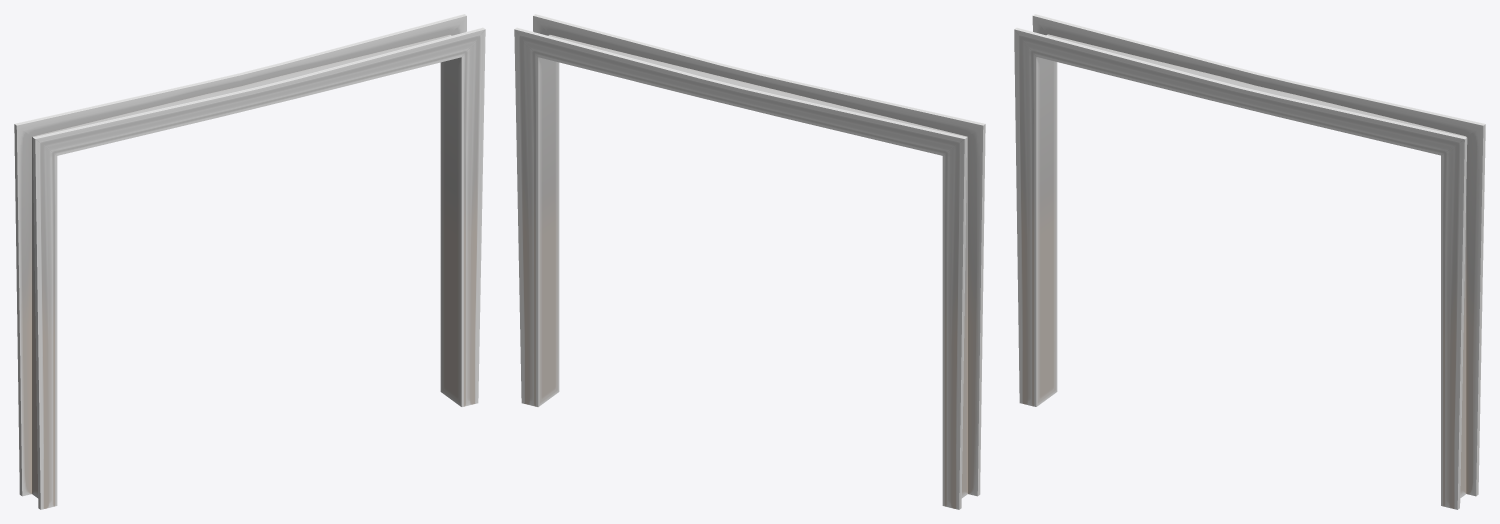
The model's file is PropDoorFrame01TypeB.FBX.
3 renders of one model, left to right at view 1: azimuth 30°, elevation 25°; view 2: azimuth 150°, elevation 25°; view 3: azimuth 330°, elevation 25°, orthographic.
Parts seen in each view (by area): view 1: PropDoorFrame01TypeB; view 2: PropDoorFrame01TypeB; view 3: PropDoorFrame01TypeB.
Part boxes in pixels (box(x1,y1,x2,y2)): PropDoorFrame01TypeB: box(14, 14, 485, 509); PropDoorFrame01TypeB: box(514, 14, 985, 509); PropDoorFrame01TypeB: box(1014, 14, 1485, 509).
Size of what is drawn, in the model's own units: 3.23 by 2.55 by 0.26.
